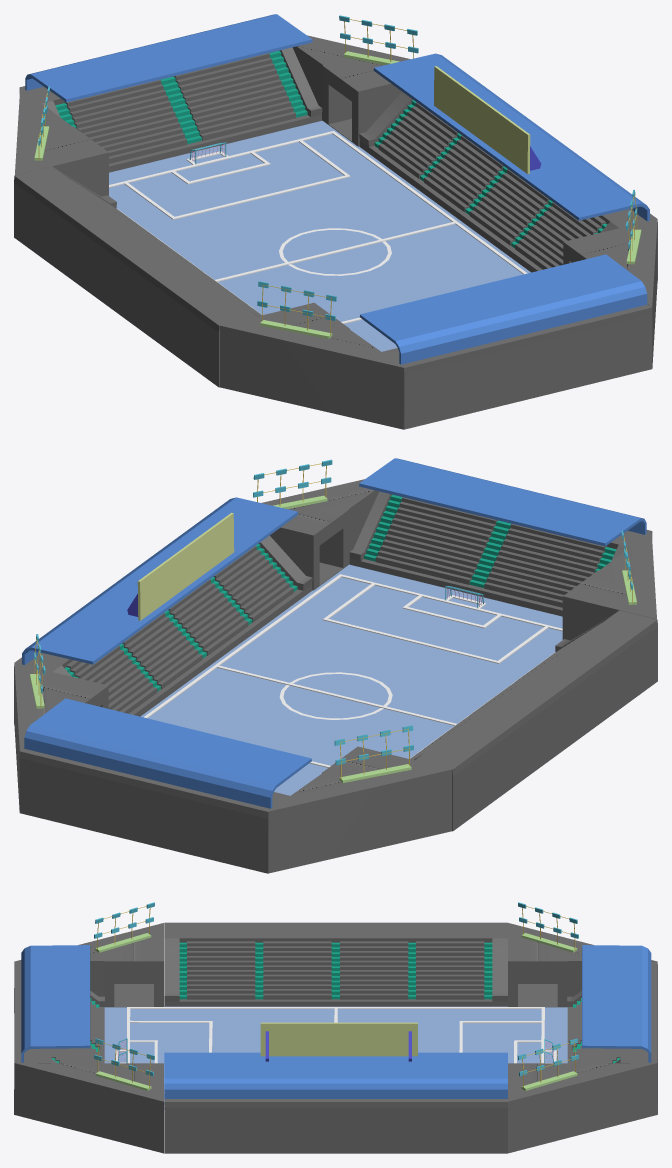
The model's file is stadium1.obj.
3 renders of one model, top to bottom at view 1: azimuth 30°, elevation 25°; view 2: azimuth 150°, elevation 25°; view 3: azimuth 270°, elevation 25°, orthographic. The views are drawn at different scales.
Visible parts, largest first — view 1: Box001, Box010, Box008, Box015, Box011, Box012, Box014, Line008, Line007, Box006, Box009, Shape029 (+11 smaller); view 2: Box001, Box010, Box003, Box014, Box009, Box012, Box015, Line021, Line022, Box007, Box011, Shape029 (+11 smaller); view 3: Box005, Box001, Box012, Box010, Box006, Box007, Box014, Box015, Box016, Box011, Box009, Line026 (+13 smaller).
Boxes of the visible parts, <box> form: Box001: <box>109,120,530,351</box>; Box010: <box>14,166,257,387</box>; Box008: <box>382,304,652,429</box>; Box015: <box>359,254,647,364</box>; Box011: <box>220,302,404,429</box>; Box012: <box>373,53,649,221</box>; Box014: <box>25,14,312,102</box>; Line008: <box>174,53,295,140</box>; Line007: <box>64,79,187,163</box>; Box006: <box>292,35,410,146</box>; Box009: <box>14,87,108,196</box>; Shape029: <box>109,131,527,323</box>; Box001: <box>141,564,562,795</box>; Box010: <box>414,610,657,831</box>; Box003: <box>19,748,289,873</box>; Box014: <box>24,698,311,808</box>; Box009: <box>268,746,451,873</box>; Box012: <box>22,497,298,664</box>; Box015: <box>359,458,646,546</box>; Line021: <box>375,497,497,584</box>; Line022: <box>484,524,606,607</box>; Box007: <box>261,479,378,590</box>; Box011: <box>562,531,656,640</box>; Shape029: <box>144,574,562,767</box>; Box005: <box>164,1099,507,1153</box>; Box001: <box>104,1006,567,1109</box>; Box012: <box>164,1052,507,1098</box>; Box010: <box>164,922,507,1006</box>; Box006: <box>508,1063,657,1153</box>; Box007: <box>14,1063,163,1153</box>; Box014: <box>582,945,651,1062</box>; Box015: <box>21,945,90,1062</box>; Box016: <box>260,1022,417,1056</box>; Box011: <box>14,923,163,1012</box>; Box009: <box>508,923,657,1007</box>; Line026: <box>416,941,484,999</box>.
Bounding box in the file's own units: 268 × 70.45 × 406.
